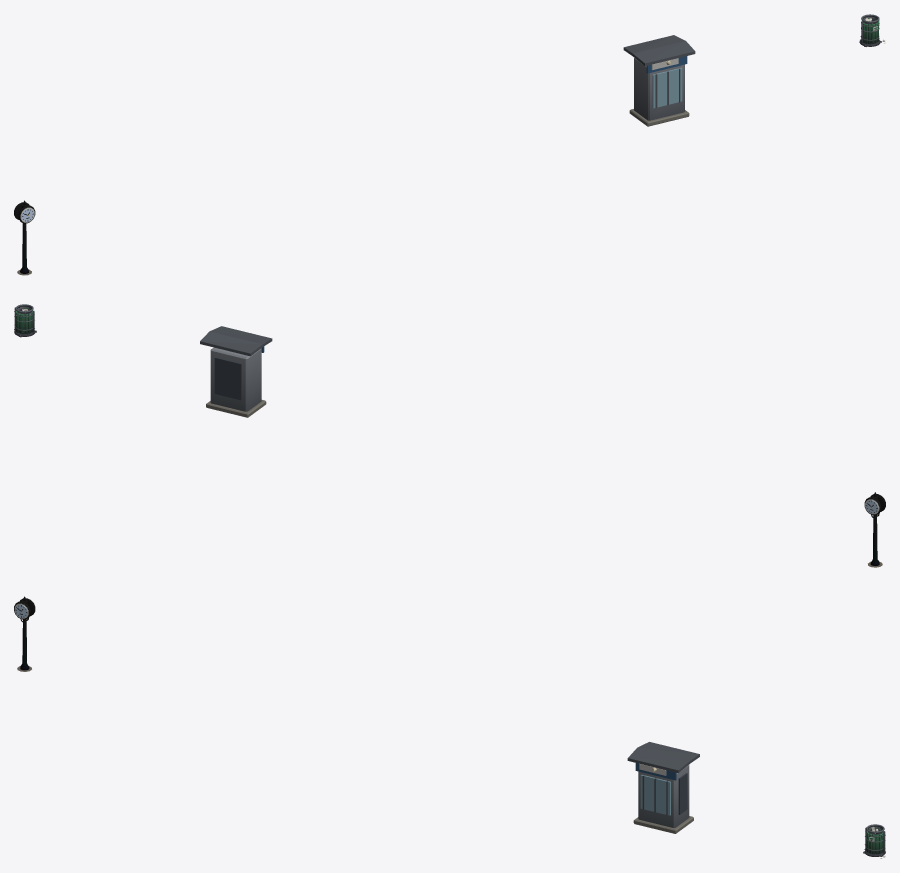
File: bahnhofmoebel.glb
3 views of the same model, one above another, from view 1: azimuth 30°, elevation 25°; view 2: azimuth 150°, elevation 25°; view 3: azimuth 330°, elevation 25° (orthographic).
Visible parts, largest first — view 1: info_kiosk_01, station_clock, trash_bin_01; view 2: info_kiosk_01, station_clock, trash_bin_01; view 3: info_kiosk_01, station_clock, trash_bin_01.
Part boxes in pixels (x1,y1,x2,y2): info_kiosk_01: (623,35,695,126); station_clock: (14,200,35,275); trash_bin_01: (859,14,885,46); info_kiosk_01: (200,326,272,417); station_clock: (864,492,885,567); trash_bin_01: (14,304,36,337); info_kiosk_01: (627,742,699,833); station_clock: (14,596,35,671); trash_bin_01: (863,824,885,858).
Size of the model in its own units: 32.73 by 2.61 by 1.4.
